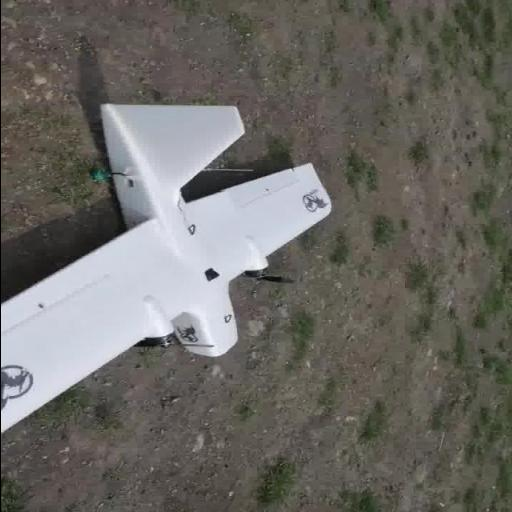uav: (0, 104, 337, 438)
